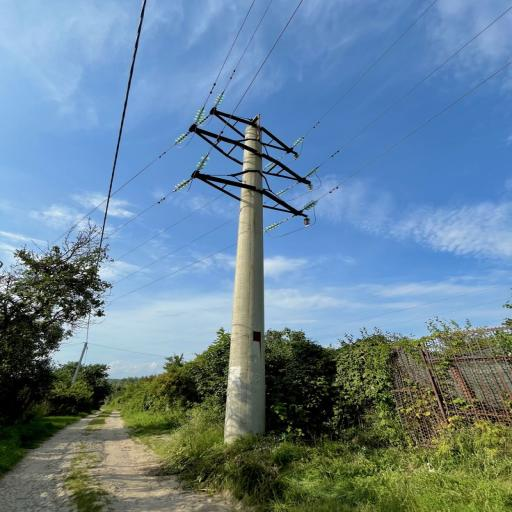elevator: (179, 101, 324, 453)
glass_wall: (0, 401, 262, 511)
